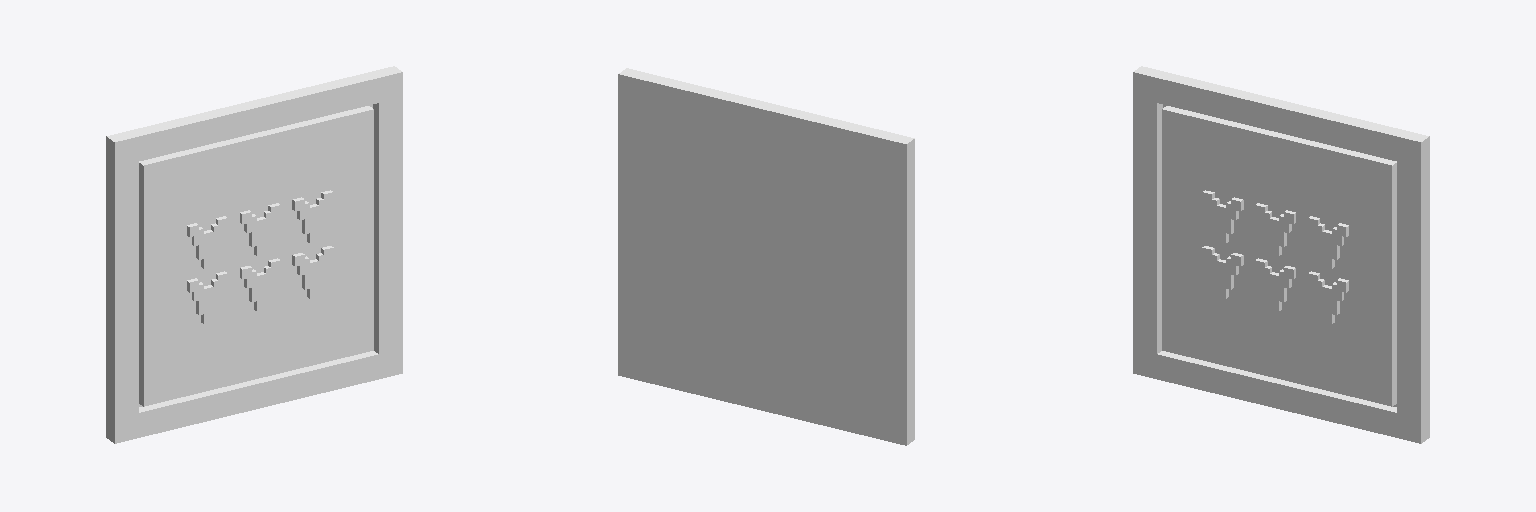
The model's file is balpan_6.obj.
The picture shows the model from 3 angles: view 1: azimuth 30°, elevation 25°; view 2: azimuth 150°, elevation 25°; view 3: azimuth 330°, elevation 25°; orthographic projection.
Visible parts, largest first — view 1: balpan_6; view 2: balpan_6; view 3: balpan_6.
Part boxes in pixels (x1,y1,x2,y2): balpan_6: (106, 66, 402, 443); balpan_6: (618, 68, 914, 445); balpan_6: (1133, 66, 1429, 443).
Bounding box in the file's own units: 60 × 60 × 4.